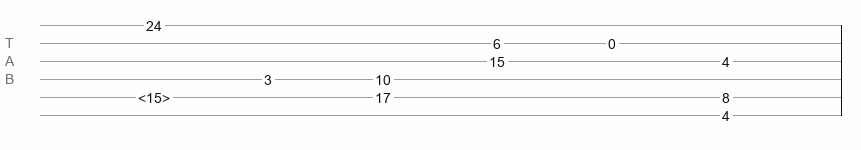0: (608, 36, 616, 46)
10: (375, 72, 391, 82)
15: (489, 54, 505, 64)
17: (375, 90, 391, 100)
24: (146, 18, 162, 28)
3: (264, 72, 272, 82)
4: (722, 54, 730, 64), (722, 108, 730, 118)
6: (493, 36, 501, 46)
8: (722, 90, 730, 100)
harmonic: (138, 90, 170, 100)
